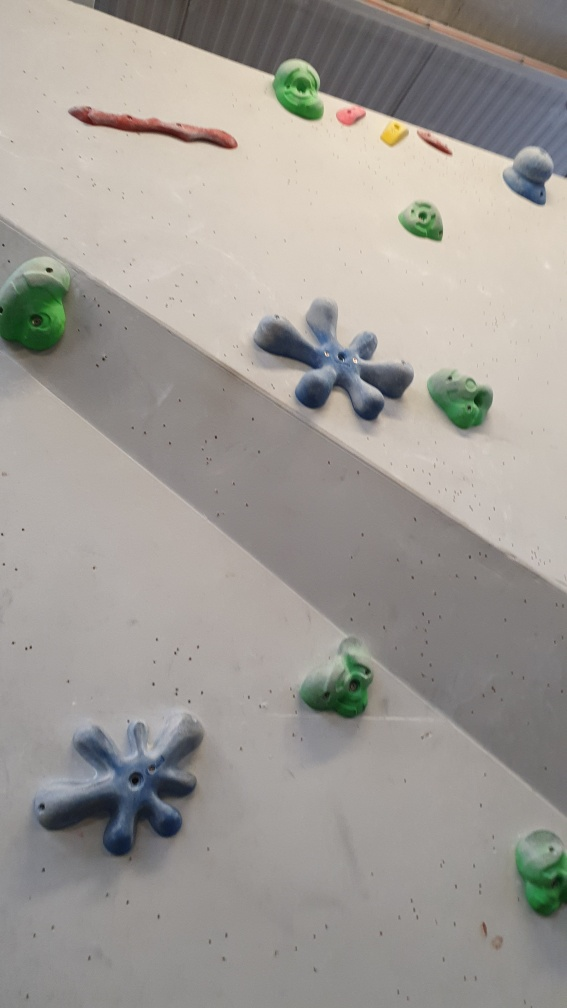Crimp: (417, 129, 454, 156), (342, 103, 368, 130)
Jug: (1, 257, 75, 362), (298, 635, 378, 719), (426, 361, 494, 429), (270, 52, 326, 125), (398, 193, 445, 245)
Octopus Pinch: (33, 712, 214, 859), (253, 292, 421, 420)
Sloper: (501, 144, 559, 205)
